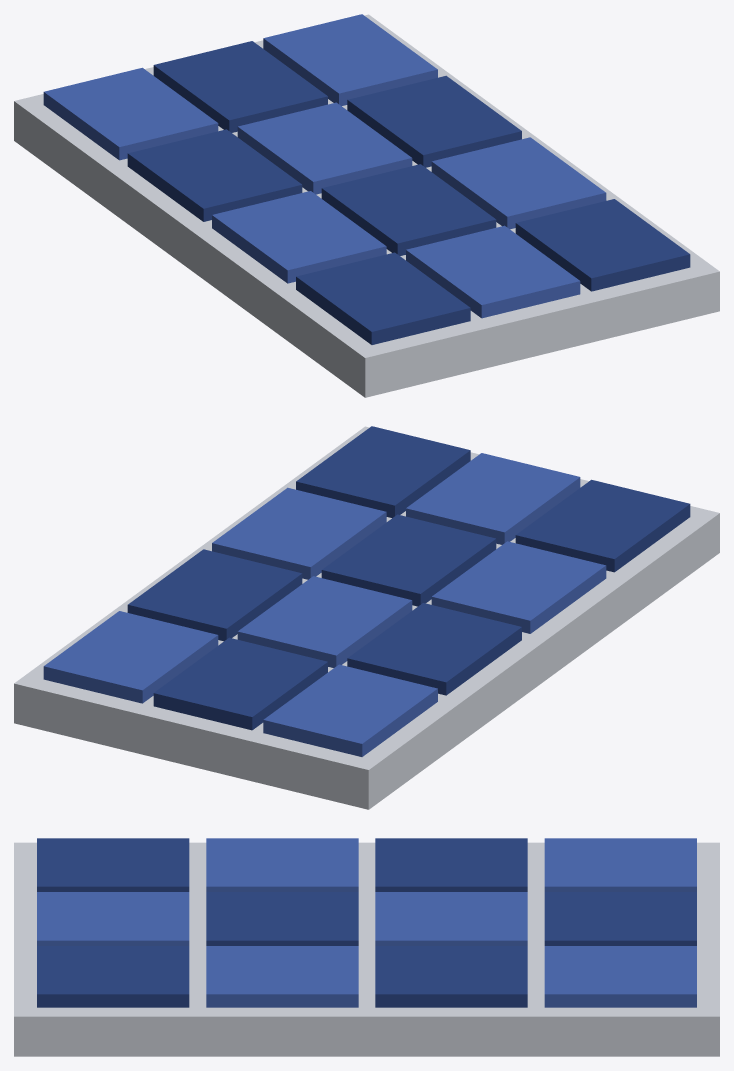
Rendered from solar-panel-flat.glb.
3 views of the same model, one above another, from view 1: azimuth 30°, elevation 25°; view 2: azimuth 150°, elevation 25°; view 3: azimuth 270°, elevation 25° (orthographic).
Visible parts, largest first — view 1: solar-panel-flat; view 2: solar-panel-flat; view 3: solar-panel-flat.
Part boxes in pixels (x1,y1,x2,y2): solar-panel-flat: (14, 14, 719, 397); solar-panel-flat: (14, 426, 719, 809); solar-panel-flat: (14, 838, 719, 1056).
Size of the model in its own units: 0.42 by 0.06 by 0.72.
1 material, 1 textured.
